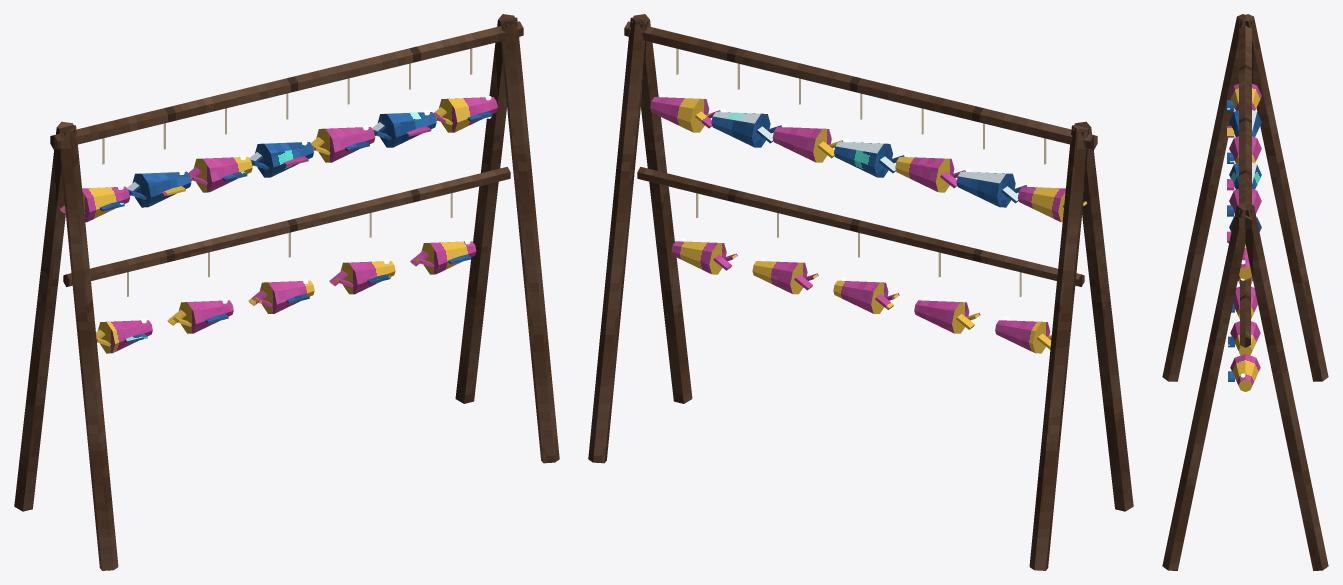
Rendered from fish_rack.glb.
The picture shows the model from 3 angles, left to right: view 1: azimuth 30°, elevation 25°; view 2: azimuth 150°, elevation 25°; view 3: azimuth 270°, elevation 25°; orthographic projection. The views are drawn at different scales.
Parts seen in each view (by area): view 1: body; view 2: body; view 3: body.
Part boxes in pixels (box(x1,y1,x2,y2)): body: box(14, 14, 559, 570); body: box(588, 14, 1133, 570); body: box(1162, 14, 1328, 570).
Bounding box in the file's own units: 1.9 × 1.61 × 0.6688.
Materials: 5 (3 with a texture image).
